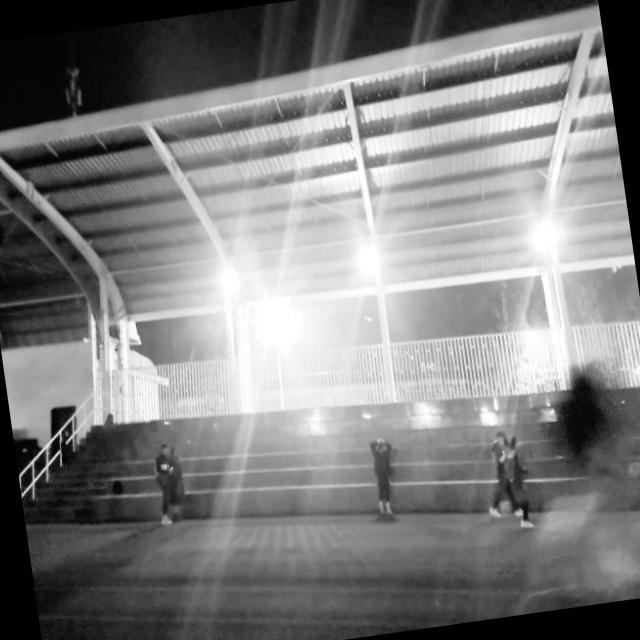Light: (491, 175, 598, 310), (322, 190, 416, 334), (243, 266, 324, 393), (183, 219, 254, 336), (510, 322, 547, 361)
